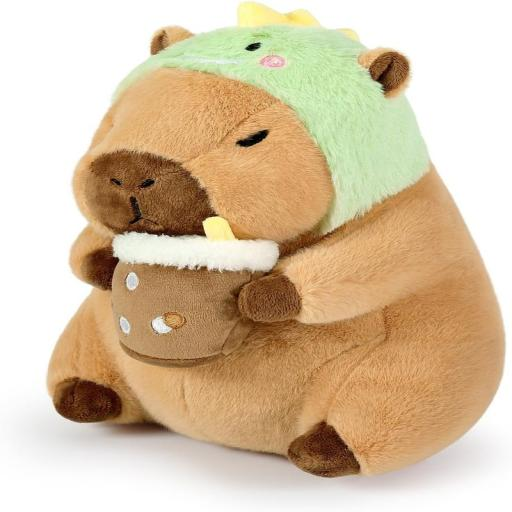capibara: (70, 12, 505, 486)
